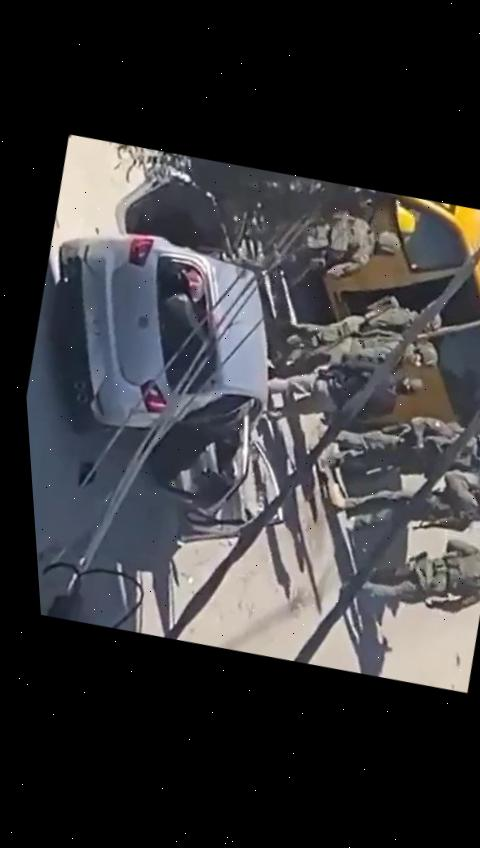car: (10, 134, 363, 570)
person: (254, 339, 431, 454), (238, 186, 408, 302), (312, 390, 480, 503), (265, 307, 445, 411), (333, 509, 480, 625), (334, 442, 480, 553), (309, 279, 447, 359)
